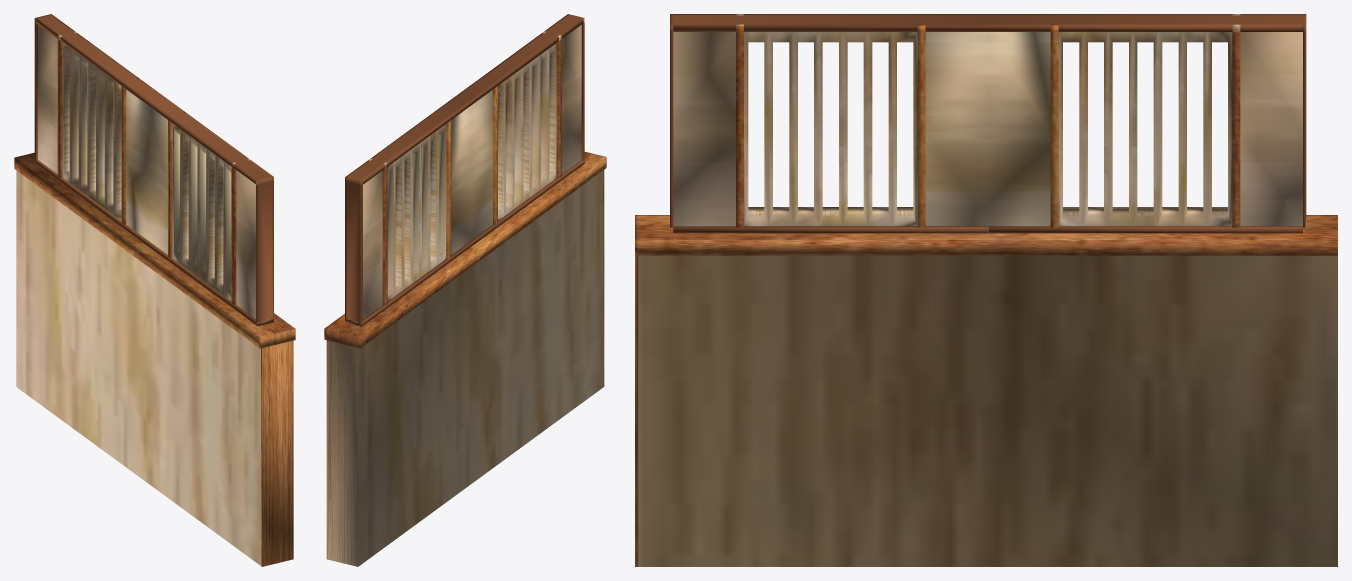
File: sushi_wall.fbx
3 views of the same model, side by side, from view 1: azimuth 30°, elevation 25°; view 2: azimuth 150°, elevation 25°; view 3: azimuth 270°, elevation 25° (orthographic). The views are drawn at different scales.
Visible parts, largest first — view 1: 立方体.002; view 2: 立方体.002; view 3: 立方体.002.
Part boxes in pixels (left/top/right/bottom): 立方体.002: left=14, top=14, right=295, bottom=566; 立方体.002: left=324, top=14, right=606, bottom=566; 立方体.002: left=635, top=14, right=1337, bottom=566.
Size of the model in its own units: 862 by 8673 by 10305.
